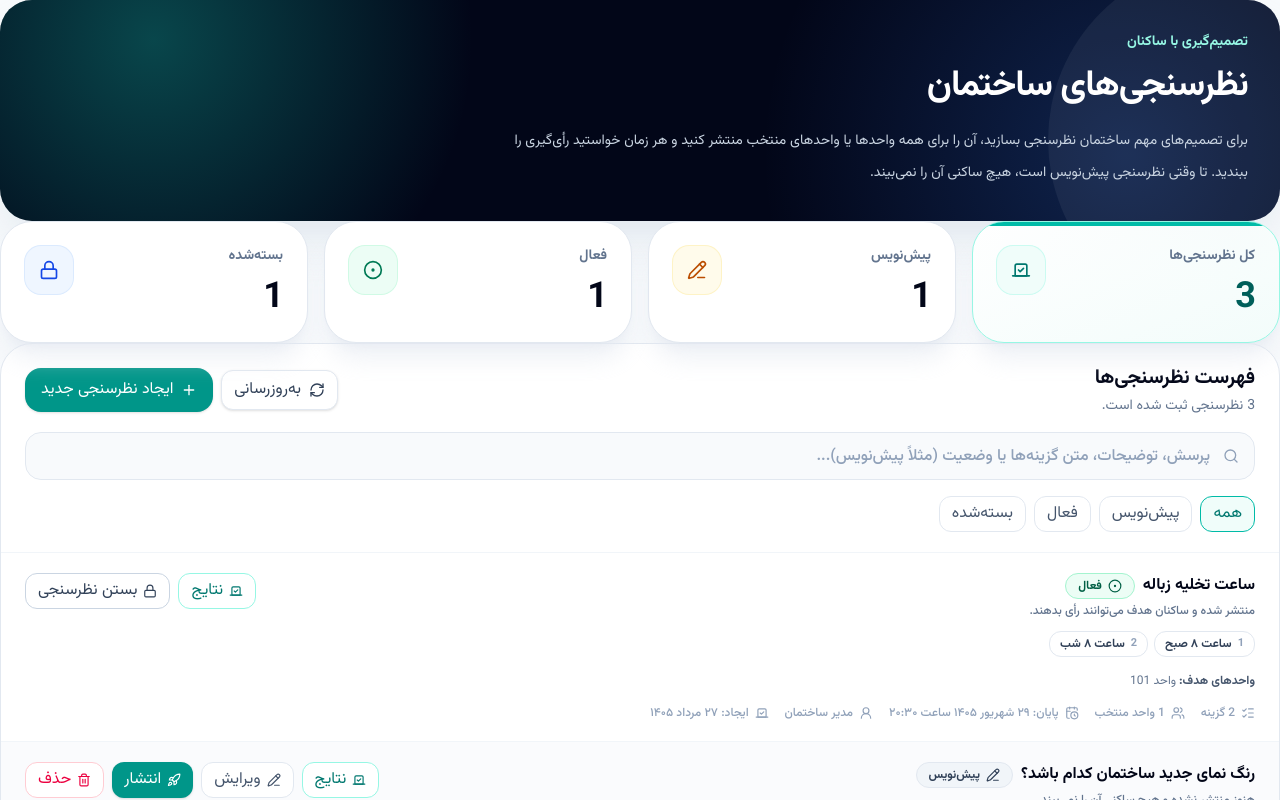
Test case: PollsSection › narrows the list by status without changing the totals
Check: the heading "رنگ نمای جدید ساختمان کدام باشد؟" is shown, box [1021,763,1255,787]
What coordinates should you click on to do the following:
click the button "پیش‌نویس"
I would click on:
 (1146, 514)
Its box is [1099,496,1192,532].
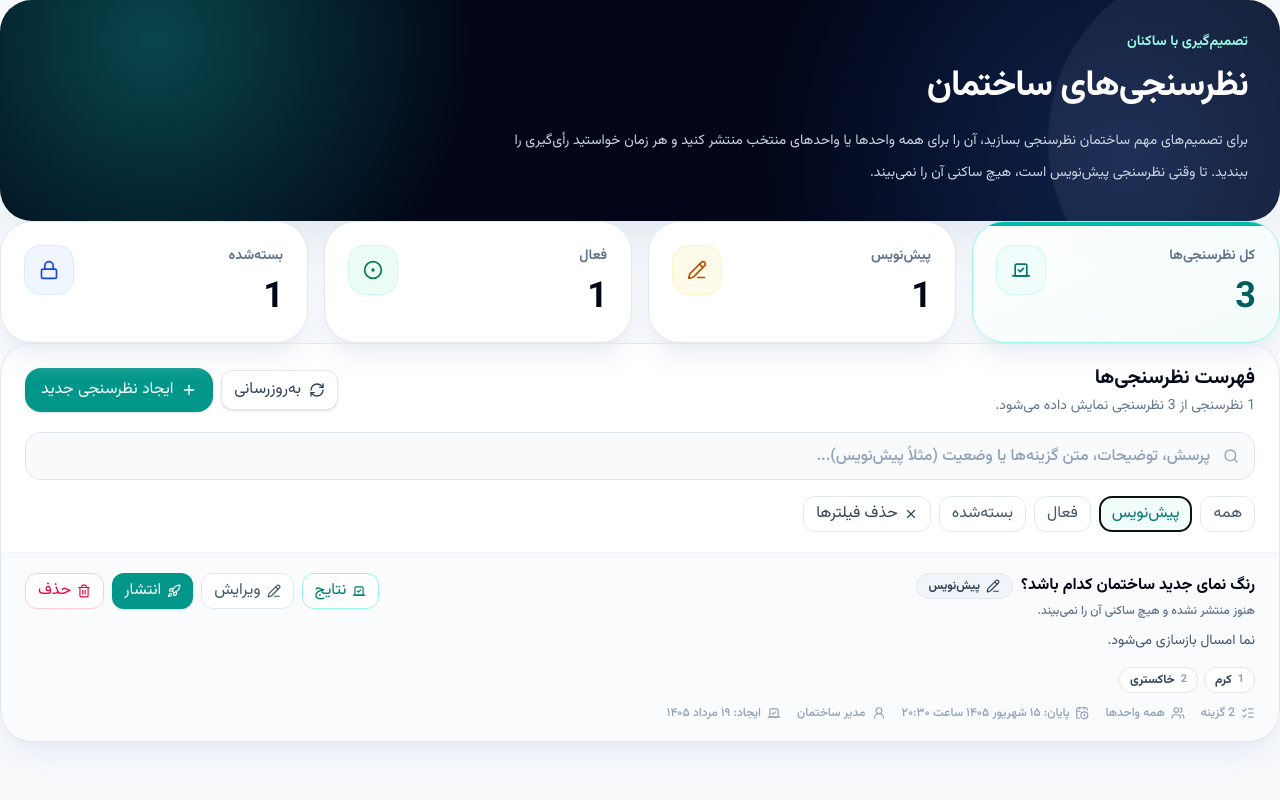
Check: the heading "رنگ نمای جدید ساختمان کدام باشد؟" is shown, box [1021,574,1255,598]
Check: the heading "ساعت تخلیه زباله" is gone
Check: the text "1 نظرسنجی از 3 نظرسنجی نمایش داده می‌شود." is shown, box [996,396,1255,416]
